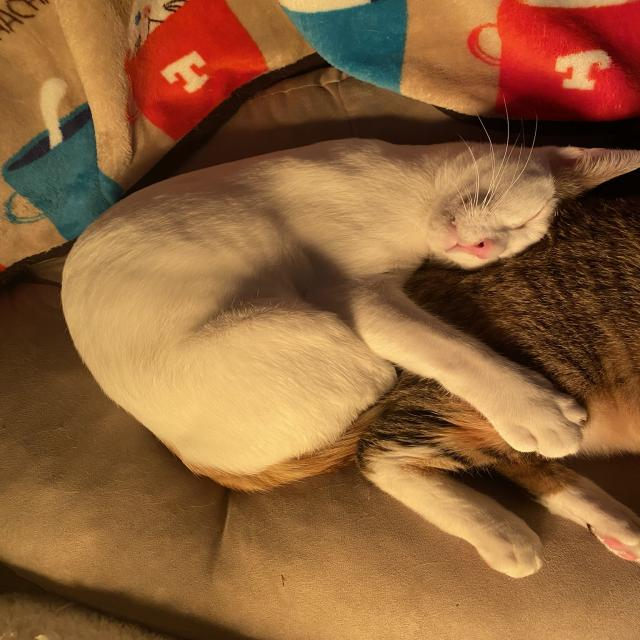cat1: (59, 143, 634, 490)
